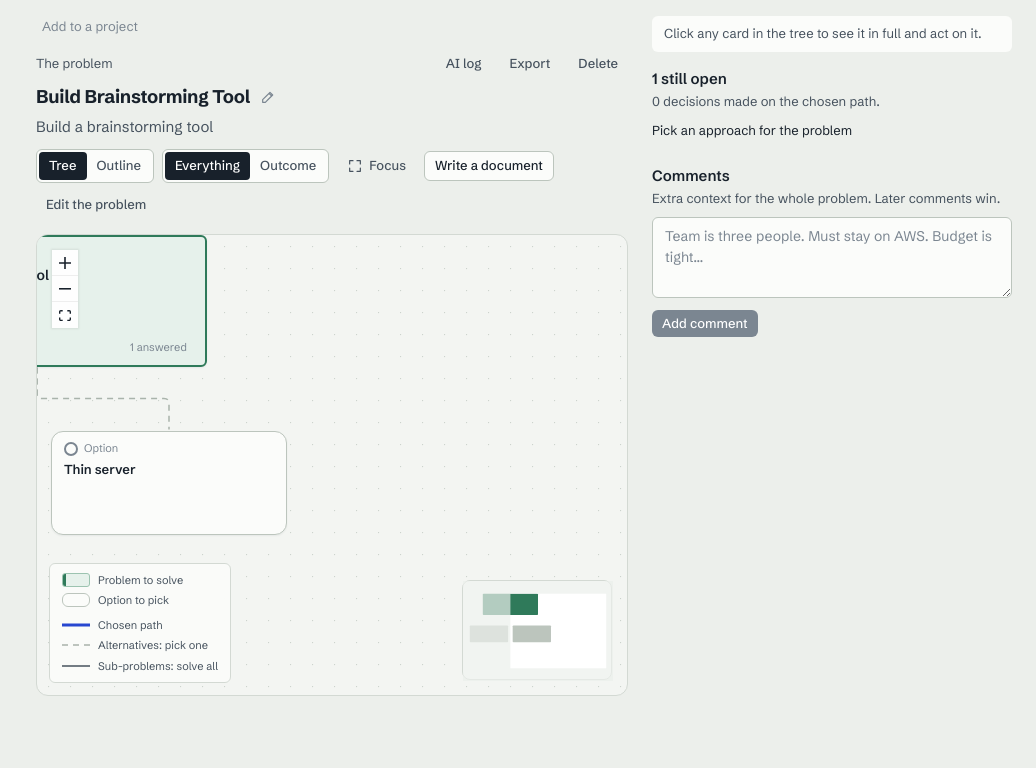
Scenario: graph page, tree view: questions › draws questions as a badge on the card that asked them, not as cards
This screenshot has width=1036, height=768.
Expected: the text "Who uses it?" is not shown
Click the button with aria-label "1 question answered": point(159, 347) [124,337,193,357]
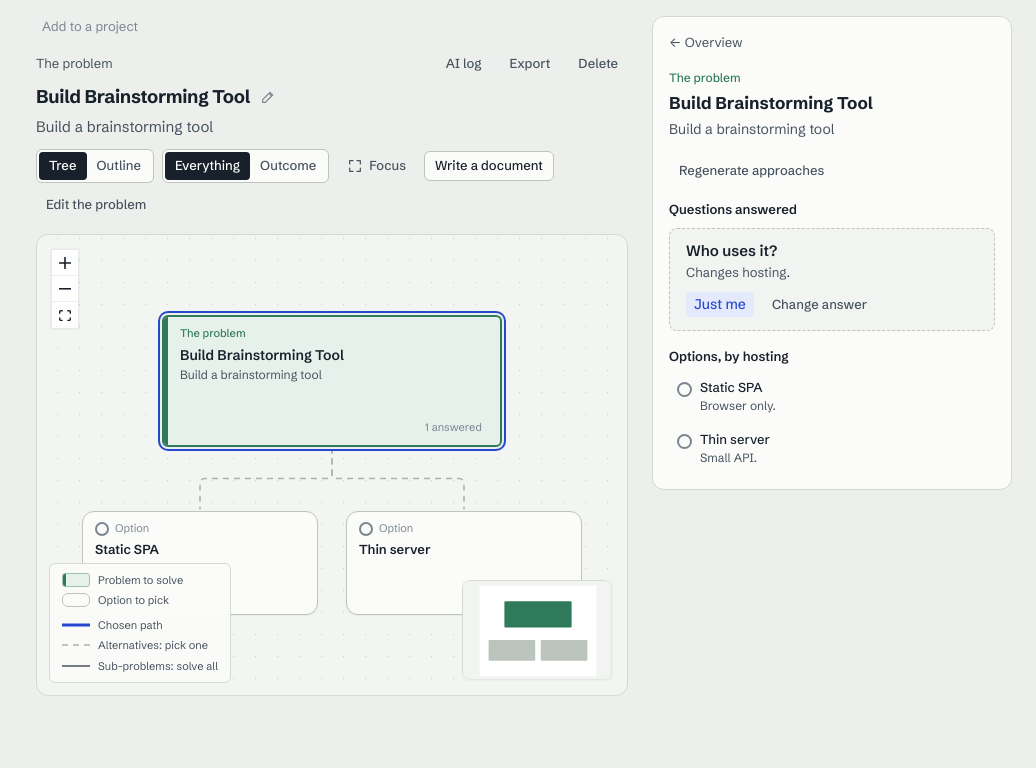
Now the heading "Questions answered" is shown, box [669,201,797,217]
Now the text "Who uses it?" is shown, box [686,241,777,260]
